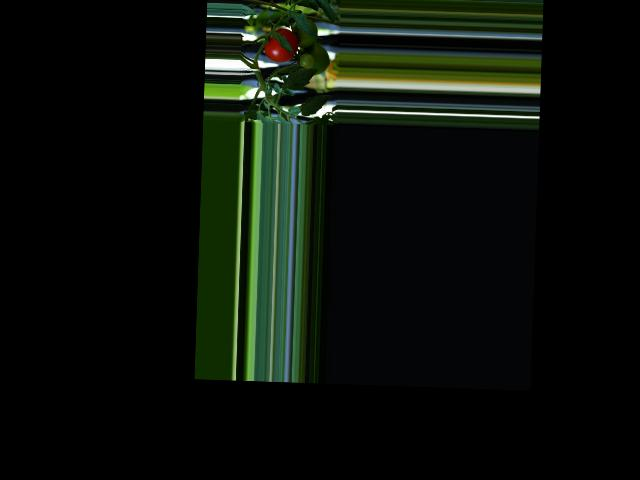tomato: (263, 28, 298, 63)
